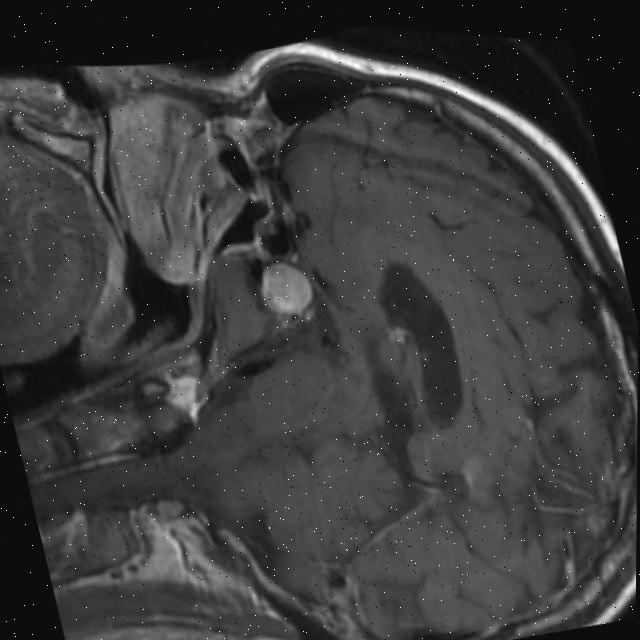Pituitary: (252, 252, 317, 324)
